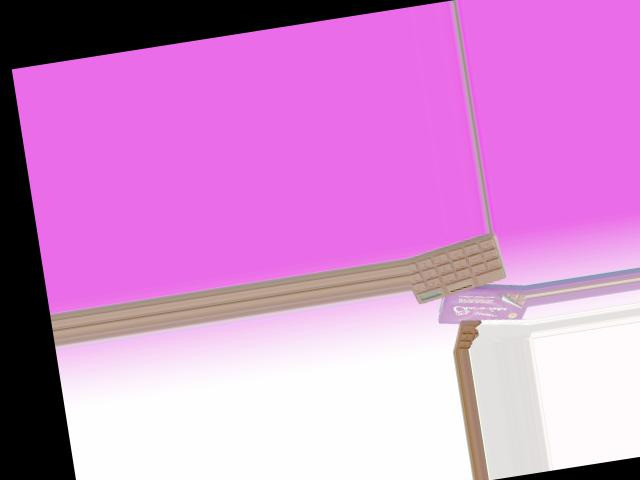chocolate: (408, 230, 507, 306)
